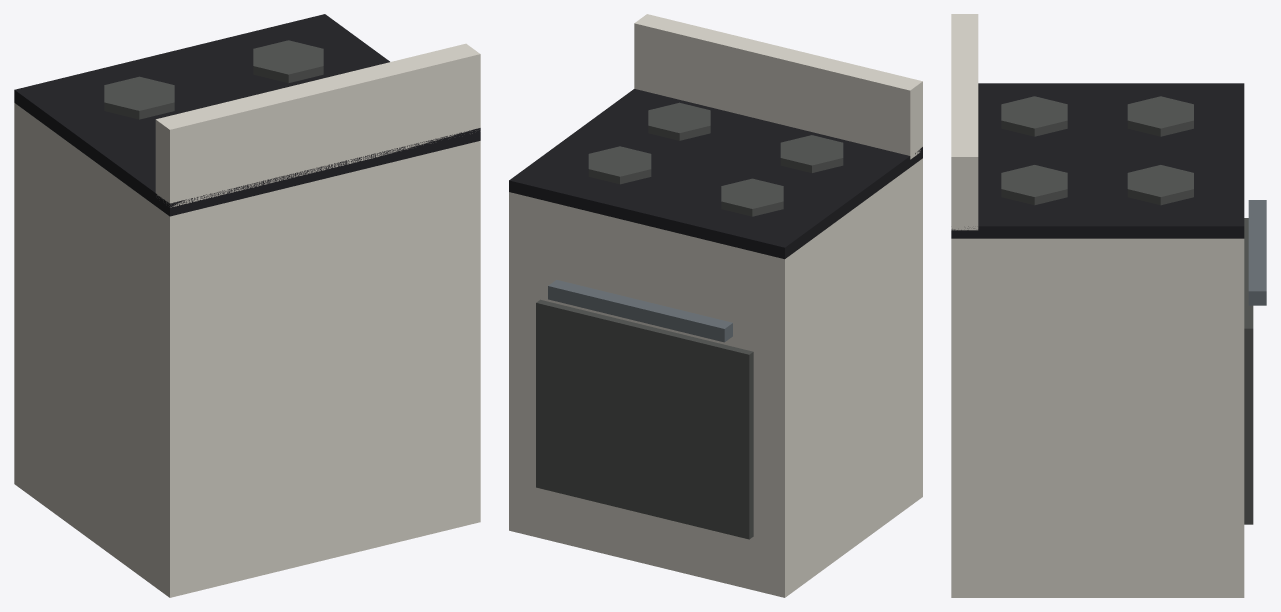
File: int_stove.glb
3 views of the same model, side by side, from view 1: azimuth 30°, elevation 25°; view 2: azimuth 150°, elevation 25°; view 3: azimuth 270°, elevation 25° (orthographic). The views are drawn at different scales.
Visible parts, largest first — view 1: int_stove; view 2: int_stove; view 3: int_stove.
Part boxes in pixels (x1,y1,x2,y2): int_stove: [14, 14, 480, 597]; int_stove: [509, 14, 922, 597]; int_stove: [951, 14, 1266, 597].
Size of the model in its own units: 0.75 by 1.08 by 0.7.
1 material, 1 textured.
